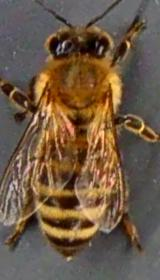varroa_mite: (91, 159, 116, 186)
